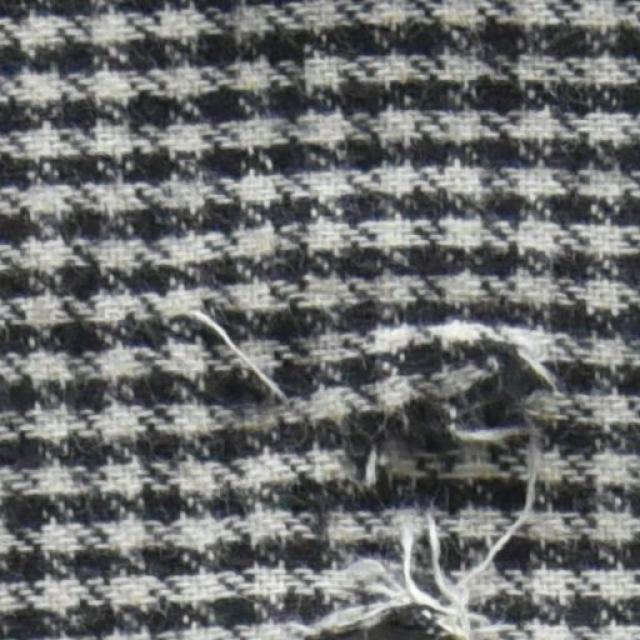Snag: (310, 309, 561, 639), (177, 309, 291, 400)
